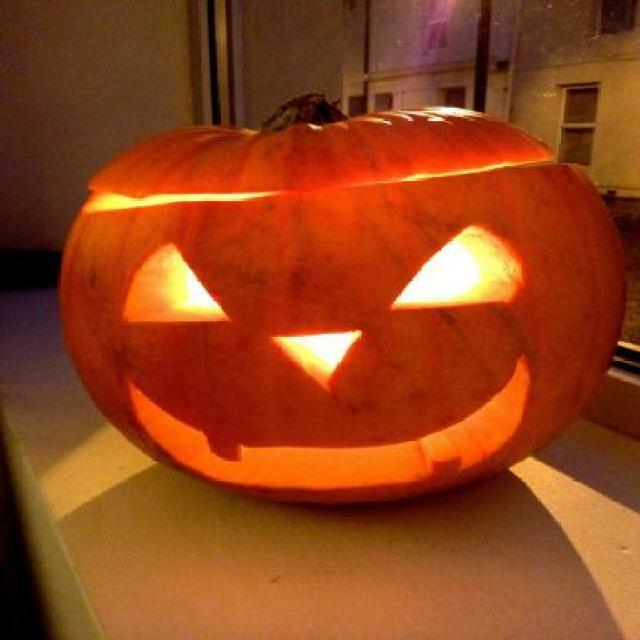Pumpkin: (57, 96, 626, 504)
